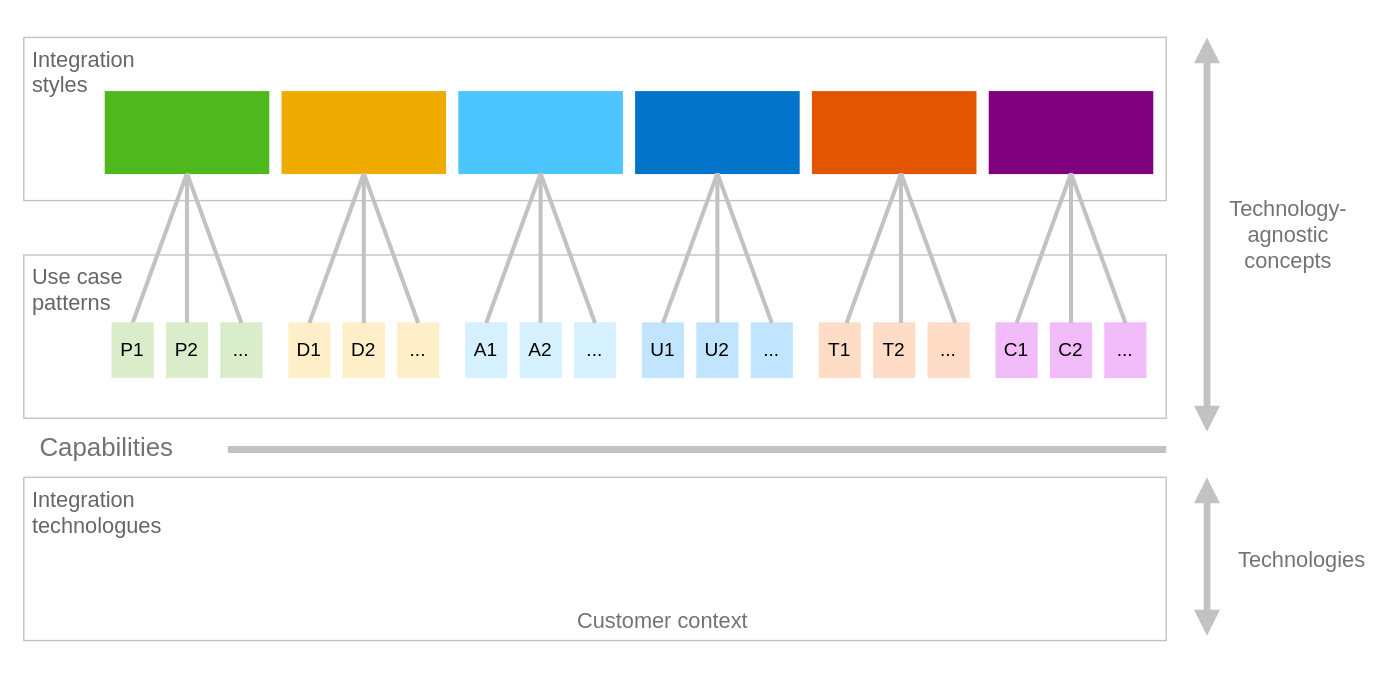
This 1394x675 diagram has some shape labels left out. The shapes that lost their labels are listed below. From the top down, each one's centre as x and y in pixels, then its label:
At [186,131]: "Process Integration".
At [363,131]: "Data Integration".
At [540,131]: "Analytics Integration".
At [716,131]: "User Integration".
At [893,131]: "Thing Integration".
At [1070,131]: "Cross Use Cases".
